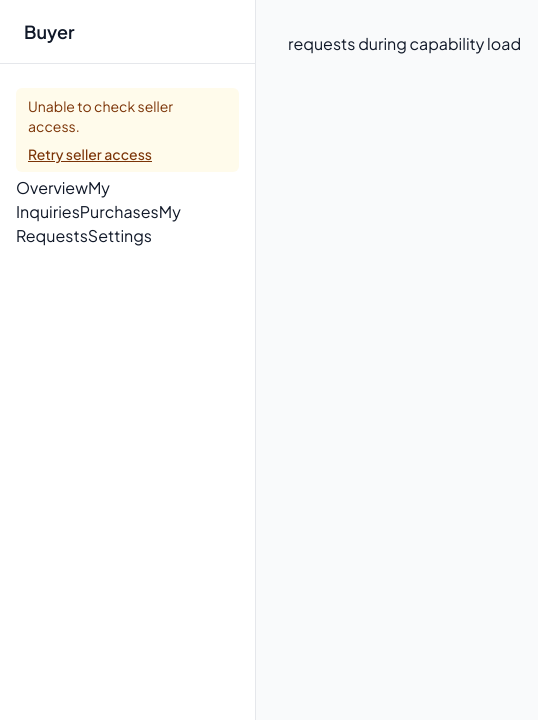
Test: DashboardLayout hydration guard › keeps My Requests available during capability loading and failure
Expected: the link "My Requests" is shown, [16,201,181,246]
Expected: the message reads "Unable to check seller access.", [28,97,173,135]
Click the button "Retry seller access".
click(90, 154)  # box [28,144,152,164]
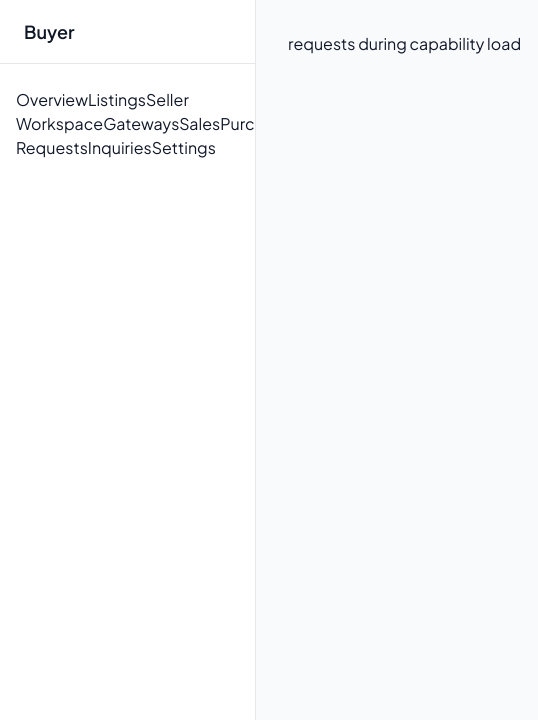
Expected: the text "requests during capability load" is shown, [288,33,521,54]
Now the link "Listings" is shown, box [88,89,146,110]
Now the message "Unable to check seller access." is gone
